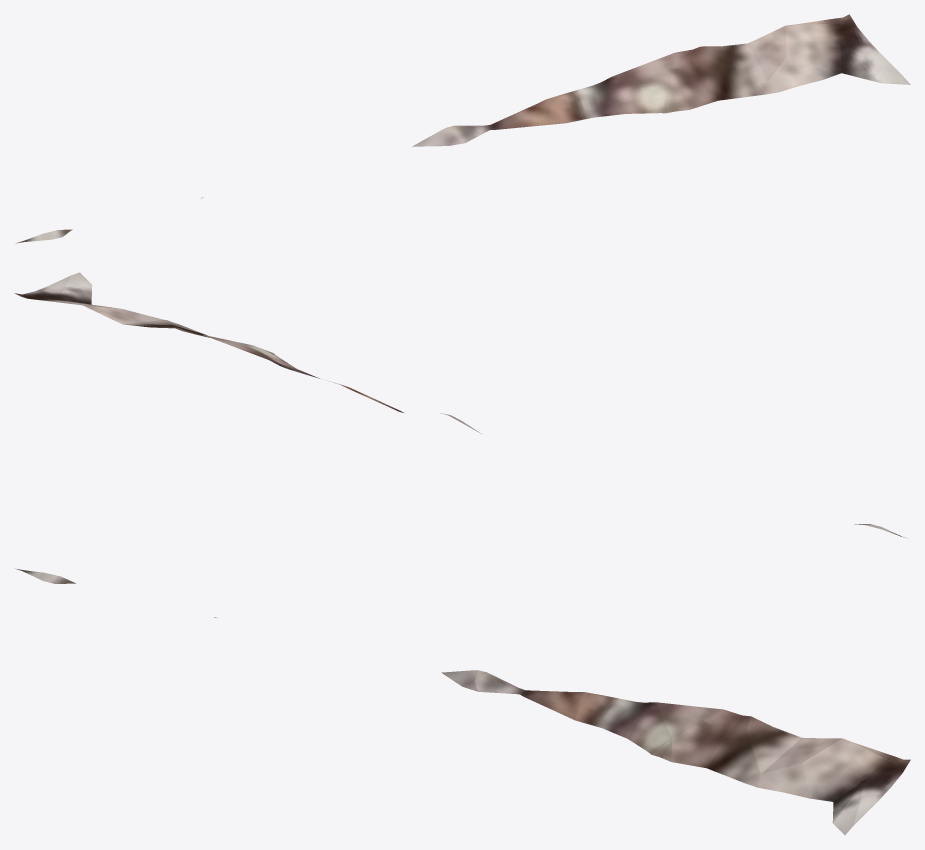
3 renders of one model, top to bottom at view 1: azimuth 30°, elevation 25°; view 2: azimuth 150°, elevation 25°; view 3: azimuth 330°, elevation 25°, orthographic. The views are drawn at different scales.
Size of the model in its own units: 1.6 by 0.0548 by 0.2042.
1 material, 1 textured.
